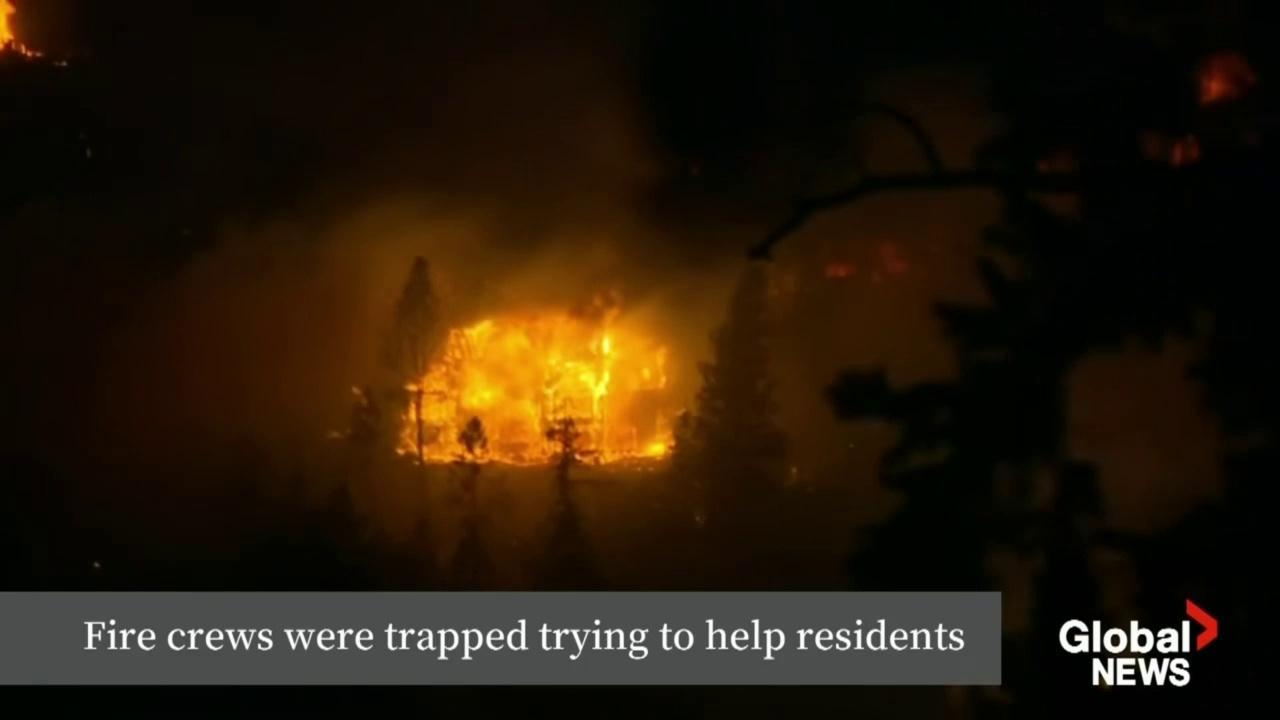fire: (384, 281, 686, 470), (1199, 49, 1258, 105), (0, 0, 49, 62), (872, 235, 912, 280), (1166, 137, 1207, 163), (820, 257, 862, 282)
smoke: (109, 37, 1020, 575), (1056, 323, 1226, 553)
